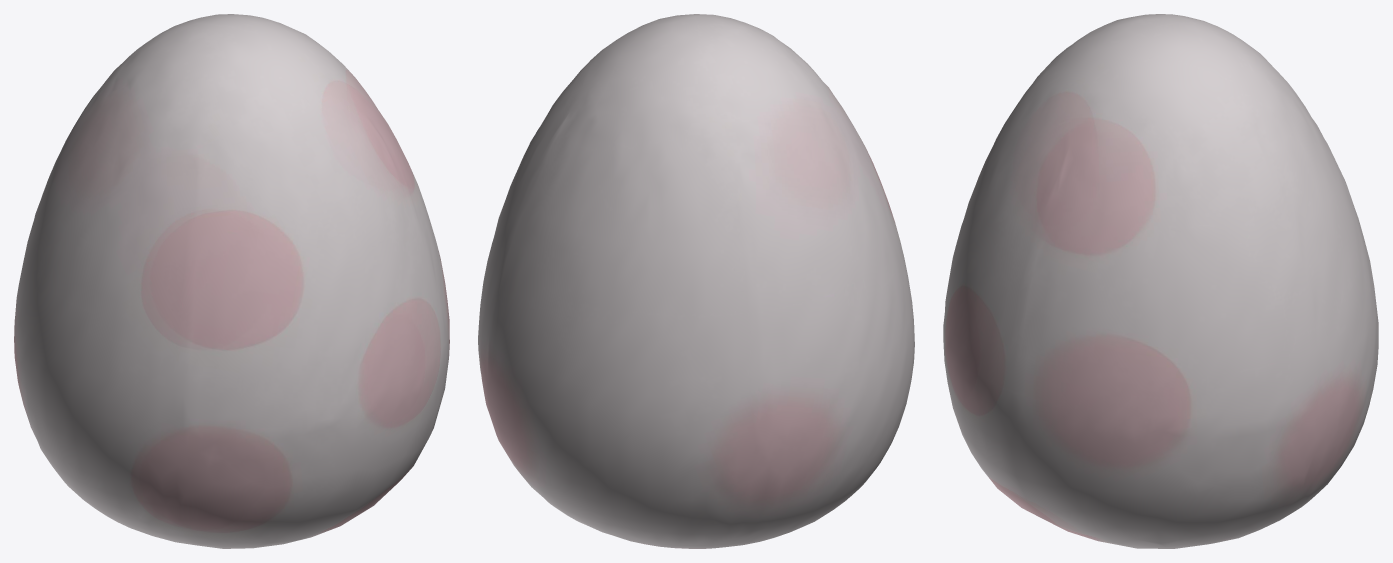
The model's file is asset_pack_item_glb-vd7d0dcraj58ycbcm7n9arqjjx8bztjr-0-ks76gvanvpqa8sspc2frcxzfr18bz72q.glb.
3 renders of one model, left to right at view 1: azimuth 30°, elevation 25°; view 2: azimuth 150°, elevation 25°; view 3: azimuth 270°, elevation 25°, orthographic.
Visible parts, largest first — view 1: egg; view 2: egg; view 3: egg.
Part boxes in pixels (x1,y1,x2,y2): egg: (14, 14, 449, 548); egg: (478, 14, 914, 548); egg: (943, 14, 1378, 548).
Size of the model in its own units: 0.8027 by 0.998 by 0.8027.
Materials: 1 (1 with a texture image).
